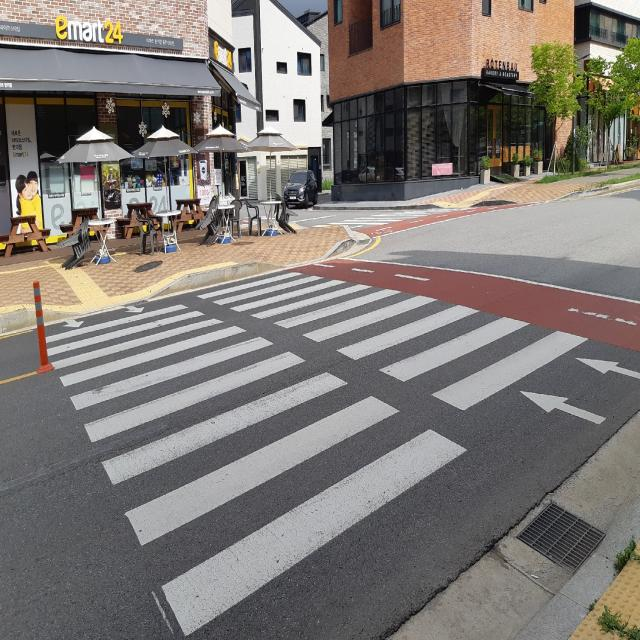횡단보도: (46, 268, 640, 639)
